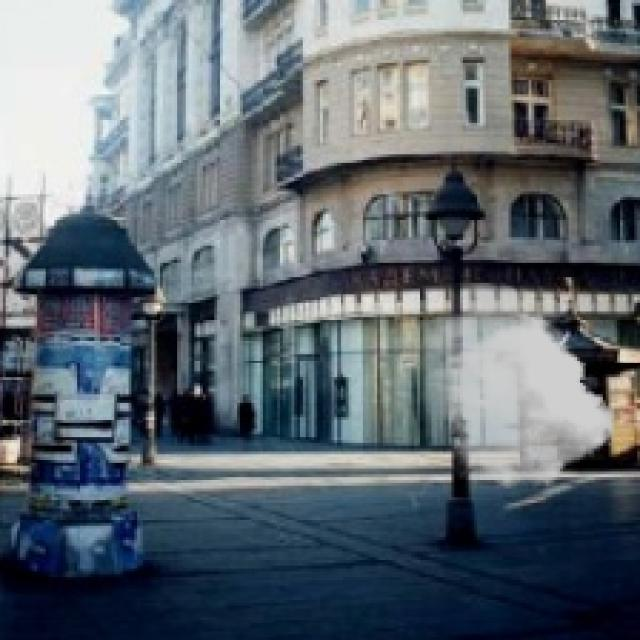smoke: (414, 283, 614, 488)
